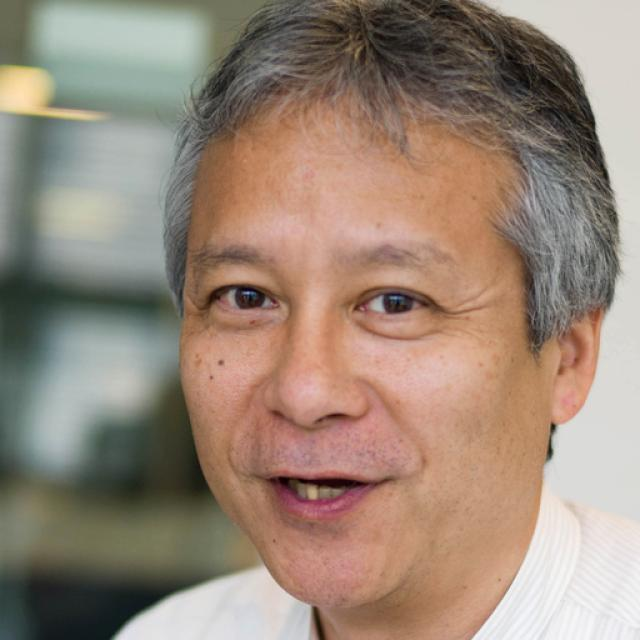happy: (178, 88, 548, 608)
